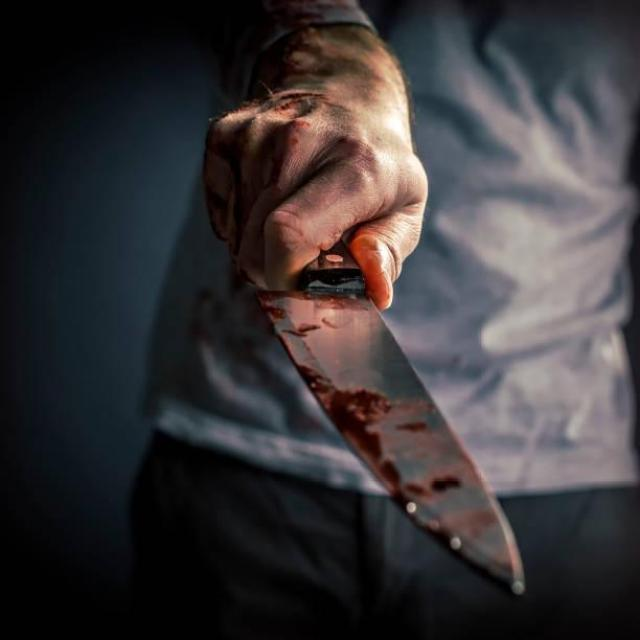faca: (187, 71, 544, 596)
